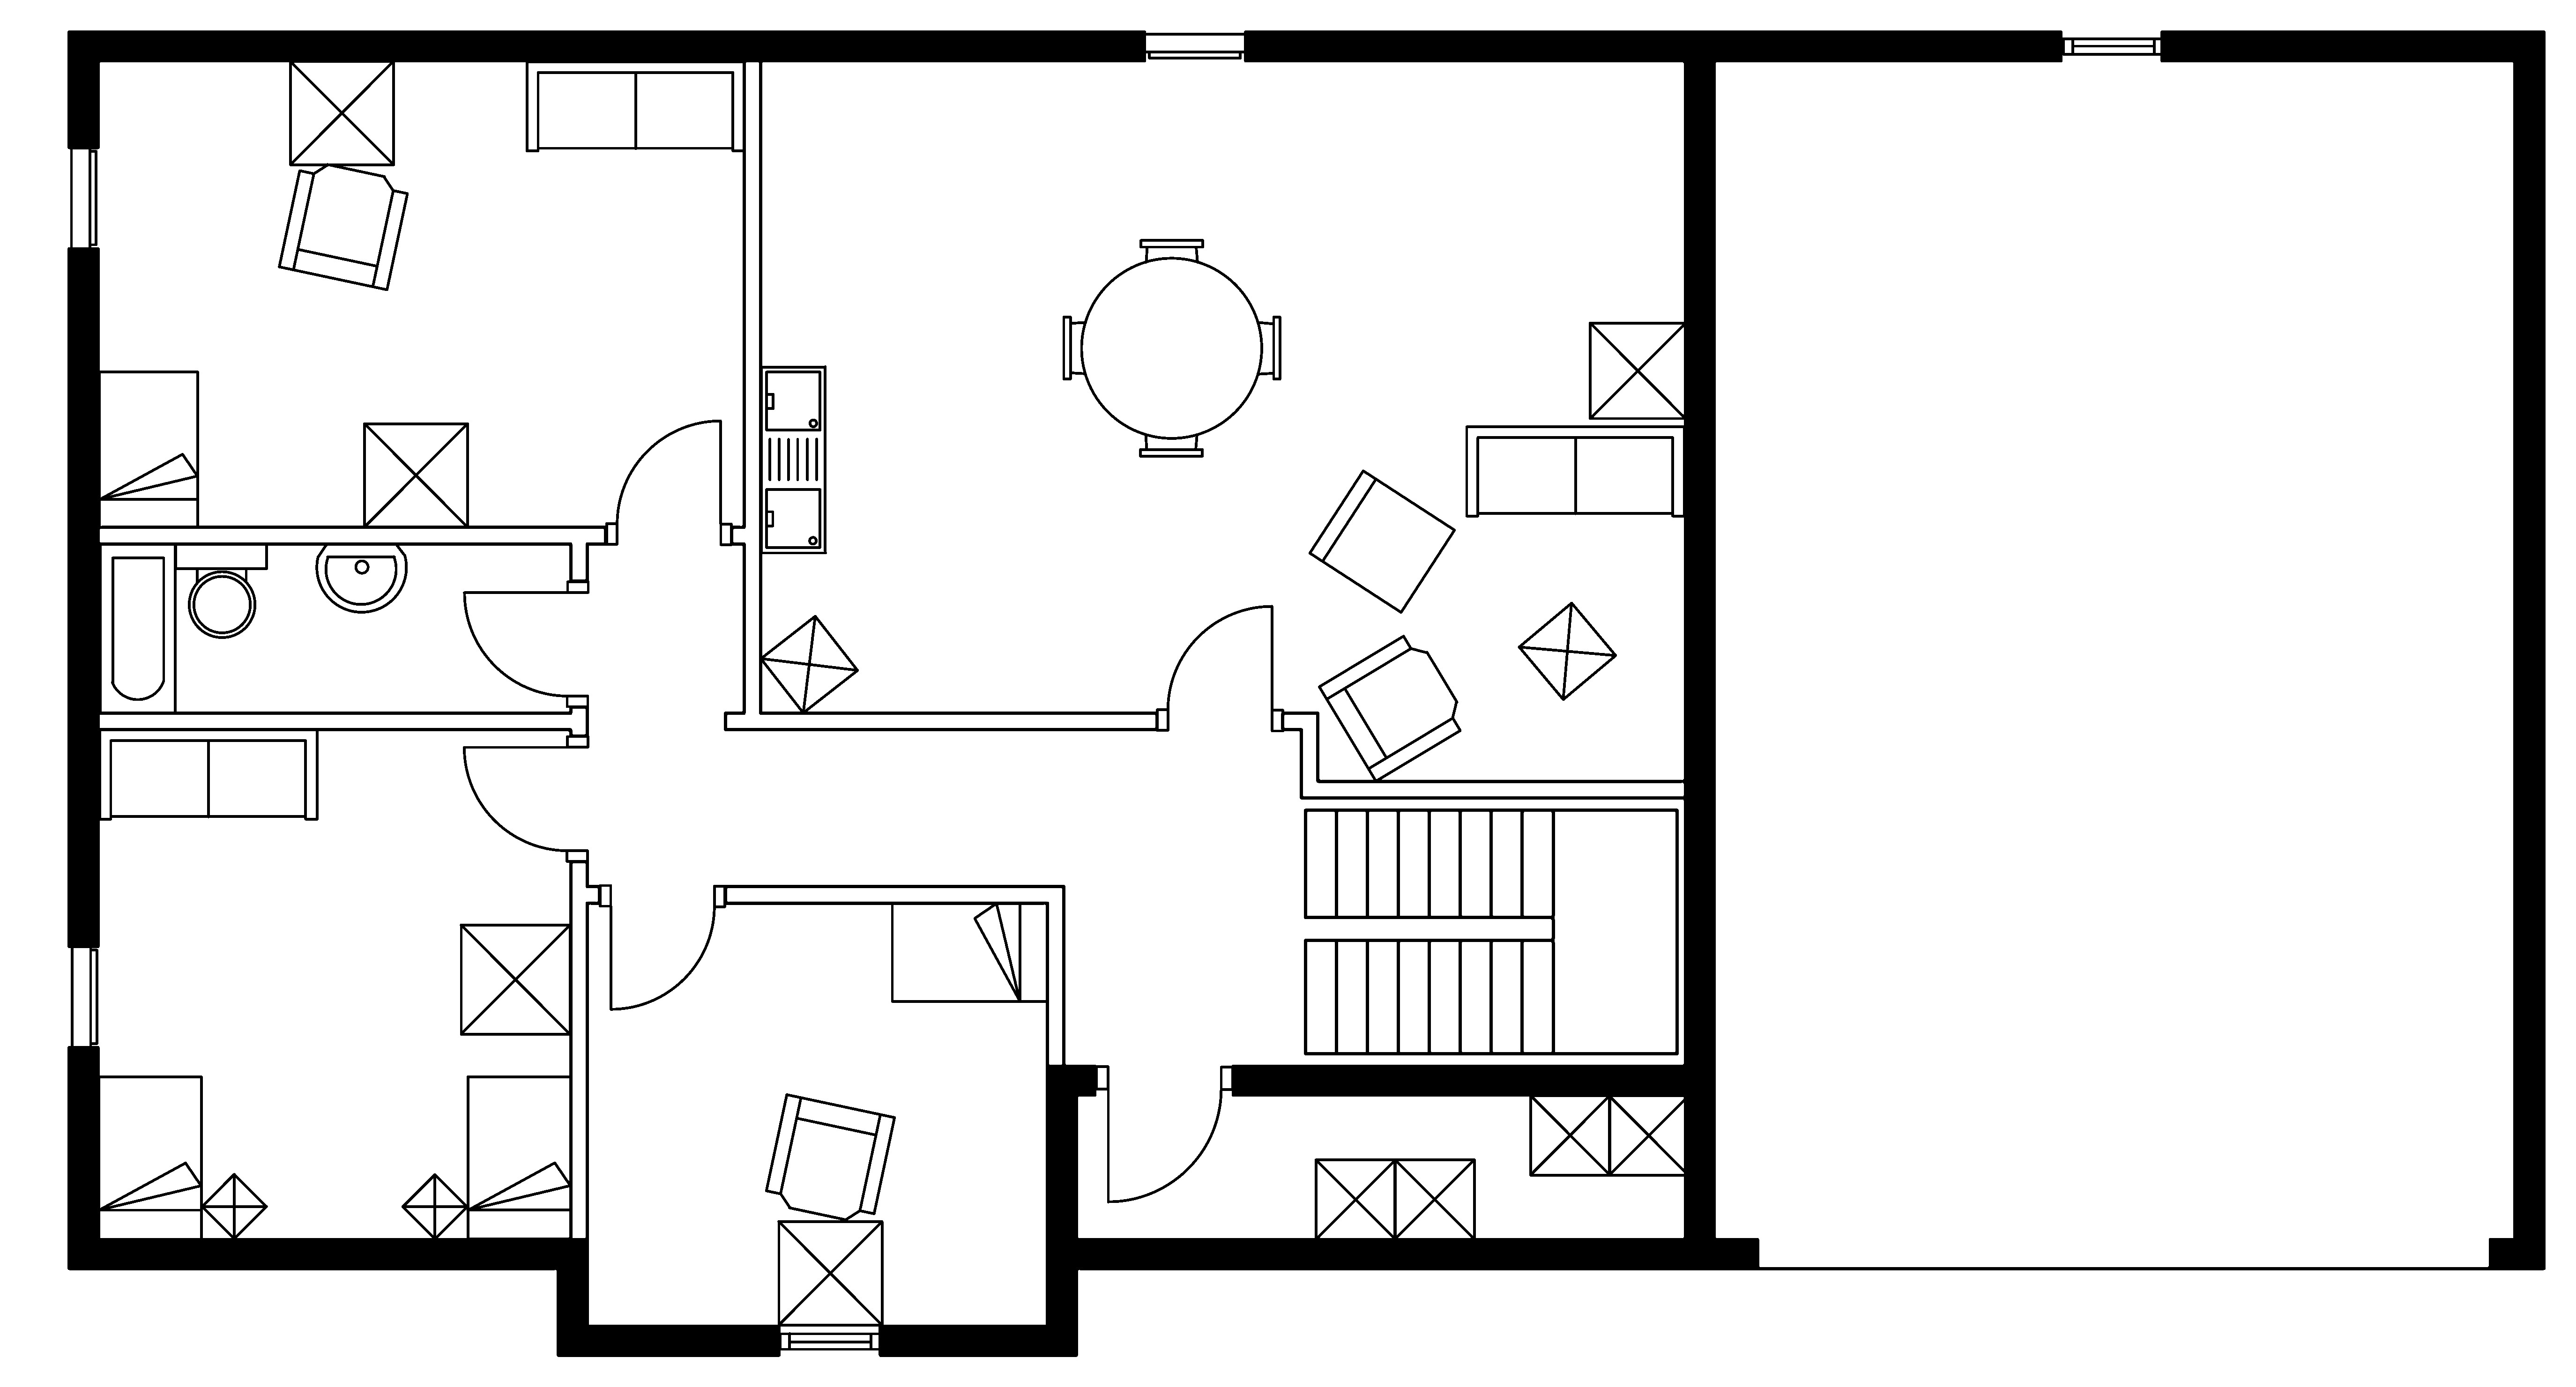armchair: (1317, 634, 1462, 782), (764, 1091, 897, 1221), (277, 162, 408, 292)
bed: (96, 1074, 203, 1240), (465, 1074, 572, 1240), (97, 369, 200, 530), (890, 900, 1049, 1003)
coffee_table: (458, 922, 572, 1035), (362, 422, 470, 530), (287, 58, 395, 166), (776, 1220, 883, 1327), (758, 613, 859, 714), (1517, 601, 1618, 702), (1587, 321, 1688, 420), (1527, 1093, 1613, 1177), (1314, 1156, 1397, 1240), (1392, 1156, 1476, 1240), (1607, 1093, 1691, 1177), (400, 1172, 470, 1240), (200, 1172, 268, 1240)
large_sink: (173, 541, 268, 639)
large_sofa: (1464, 424, 1686, 518), (97, 728, 319, 820), (524, 60, 746, 152)
round_table: (1061, 237, 1281, 458)
small_sink: (316, 541, 407, 613)
small_sofa: (1307, 468, 1455, 615)
tub: (97, 541, 178, 714)
twin_sink: (758, 364, 827, 555)
